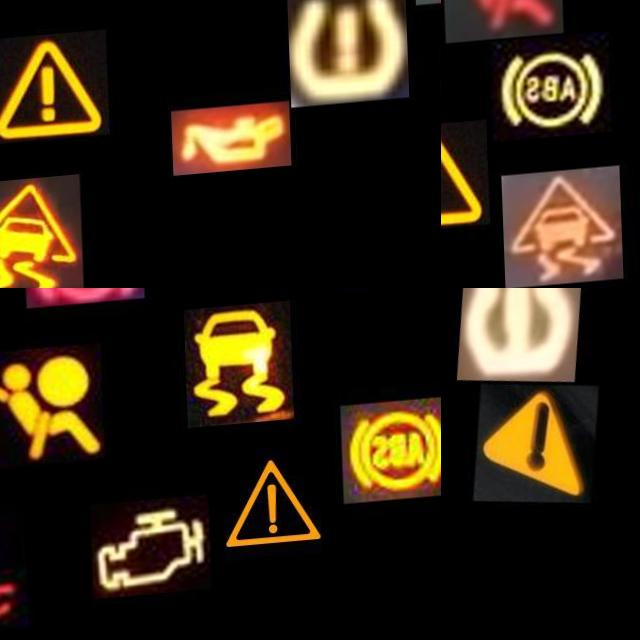Central Warning lamp: (466, 377, 600, 514), (207, 446, 329, 572), (0, 31, 105, 145), (441, 126, 487, 239)
